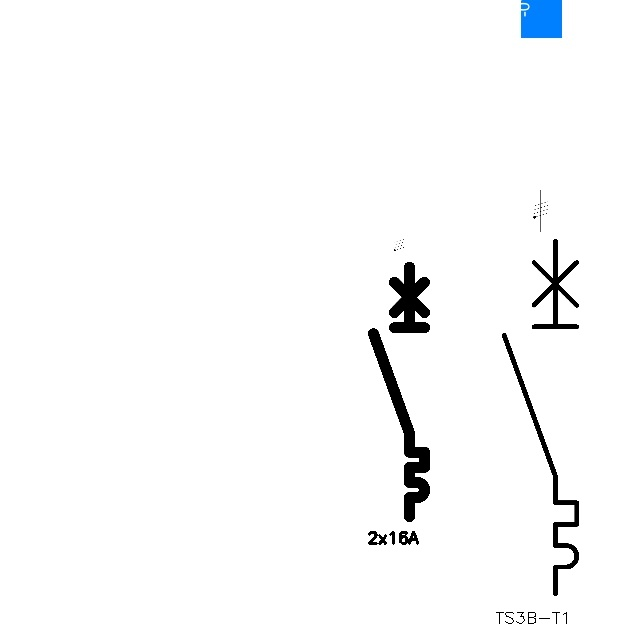interruptor_termomagnetico: (495, 232, 586, 603), (367, 260, 431, 523)
